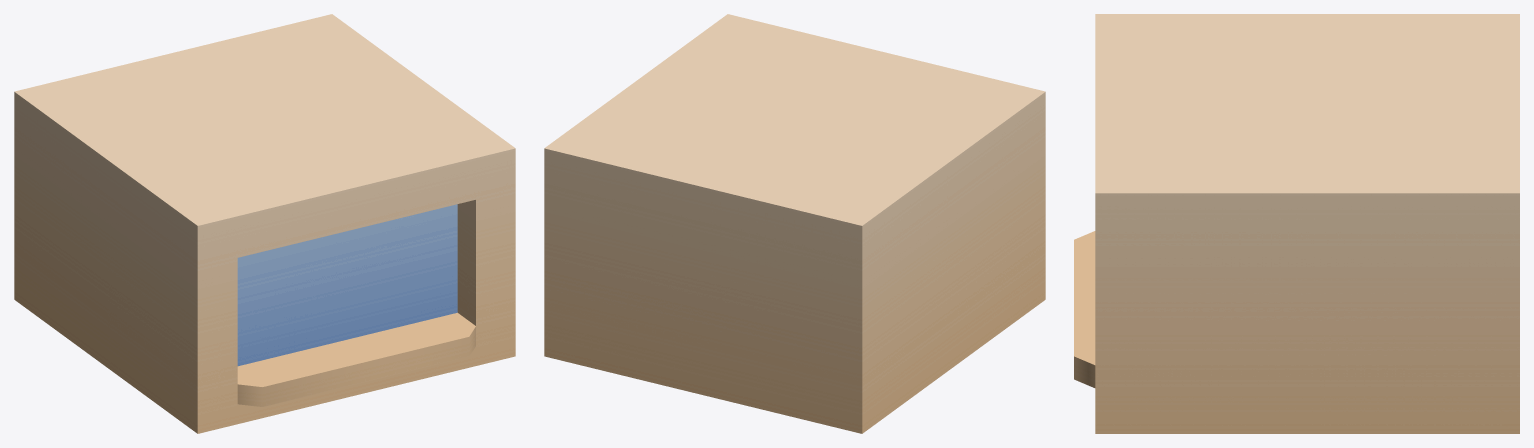
The model's file is building_window_wide_sill.glb.
The picture shows the model from 3 angles, left to right: view 1: azimuth 30°, elevation 25°; view 2: azimuth 150°, elevation 25°; view 3: azimuth 270°, elevation 25°; orthographic projection. The views are drawn at different scales.
Parts seen in each view (by area): view 1: building-window-wide-sill; view 2: building-window-wide-sill; view 3: building-window-wide-sill.
Boxes of the visible parts, x1,y1,x2,y2 form: building-window-wide-sill: (14,14,515,433); building-window-wide-sill: (544,14,1045,433); building-window-wide-sill: (1074,14,1519,433).
Size of the model in its own units: 1 by 0.625 by 1.05.
1 material, 1 textured.
